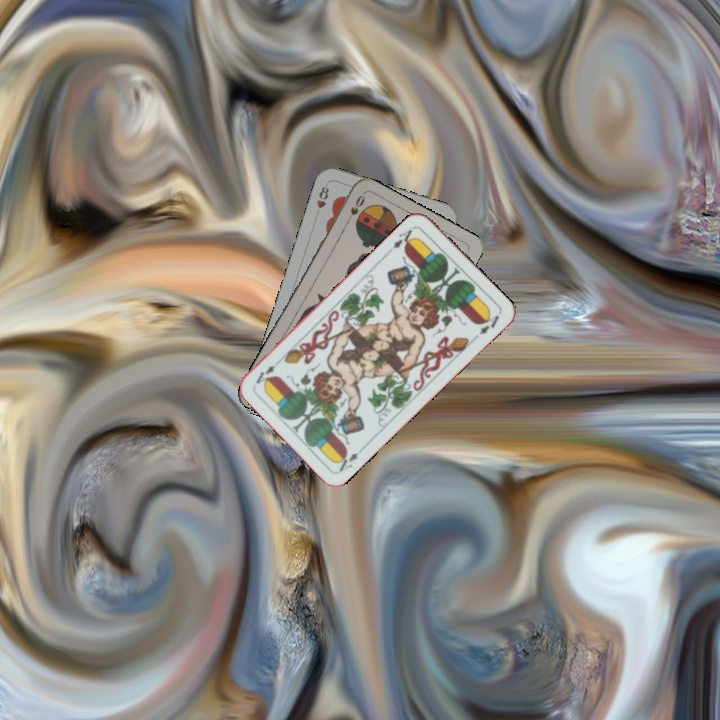EA: (332, 443, 367, 474), (389, 223, 419, 251)
H8: (312, 182, 332, 219)
SO: (341, 191, 368, 228)
